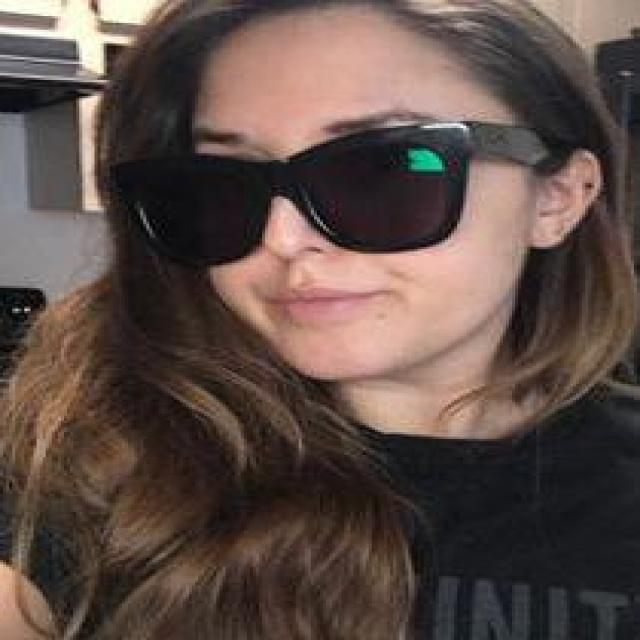2_gafas: (106, 116, 564, 268)
